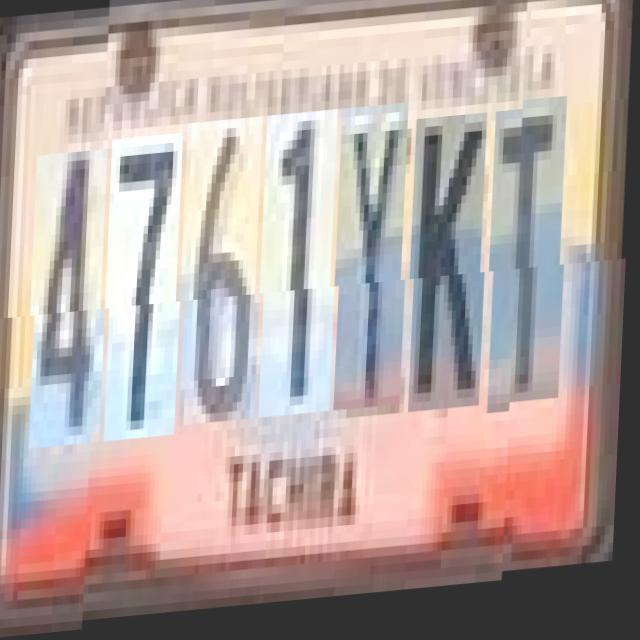1: (263, 116, 344, 423)
4: (33, 142, 114, 441)
6: (183, 122, 269, 430)
7: (108, 136, 189, 444)
K: (412, 122, 493, 421)
T: (492, 116, 572, 424)
Y: (338, 111, 414, 418)
